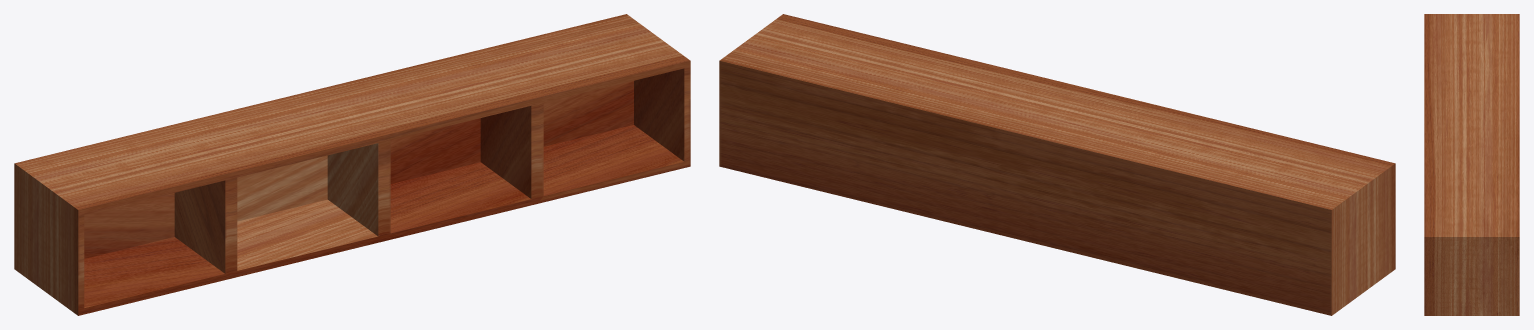
Rendered from frontshelf.fbx.
3 renders of one model, left to right at view 1: azimuth 30°, elevation 25°; view 2: azimuth 150°, elevation 25°; view 3: azimuth 270°, elevation 25°, orthographic. The views are drawn at different scales.
Parts seen in each view (by area): view 1: Cube.001; view 2: Cube.001; view 3: Cube.001.
Part boxes in pixels (x1,y1,x2,y2): Cube.001: (14, 14, 690, 315); Cube.001: (719, 14, 1395, 315); Cube.001: (1424, 14, 1519, 315).
Bounding box in the file's own units: 429 × 70.92 × 77.4.
